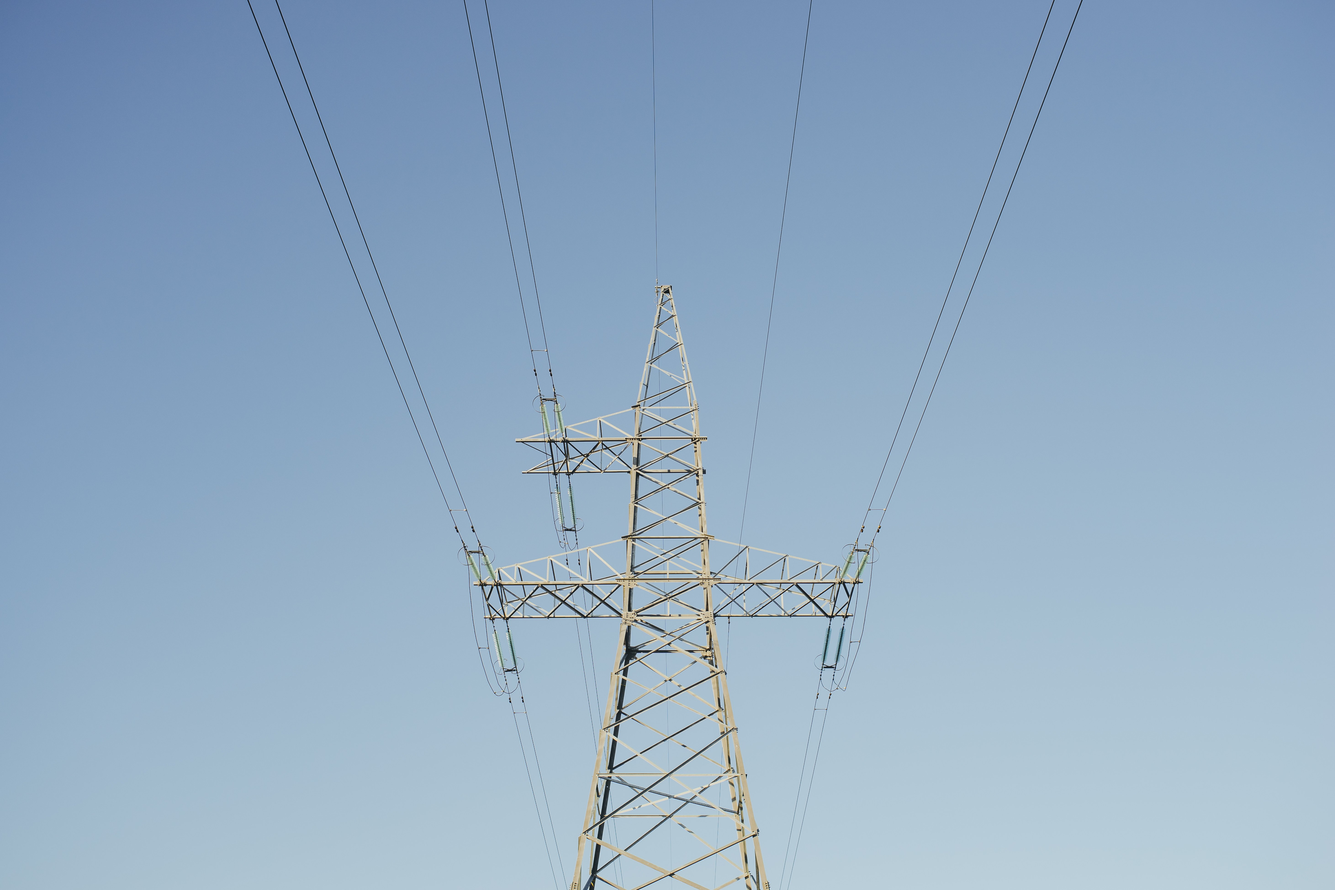insulator: (488, 627, 521, 673), (816, 621, 846, 671), (552, 481, 581, 528), (533, 397, 567, 436), (836, 550, 871, 582), (462, 553, 499, 583)
